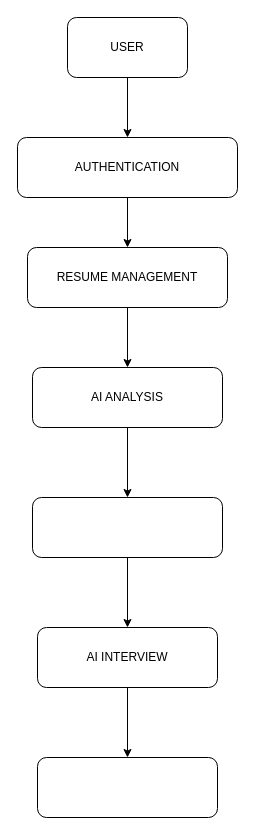
This 255x835 diagram has some shape labels left out. Each missing label, with the centre of its shape:
JOB MATCHING: point (127, 527)
LEARNING ROADMAP: point (127, 787)
